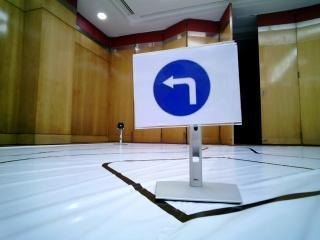left: (135, 51, 239, 121)
